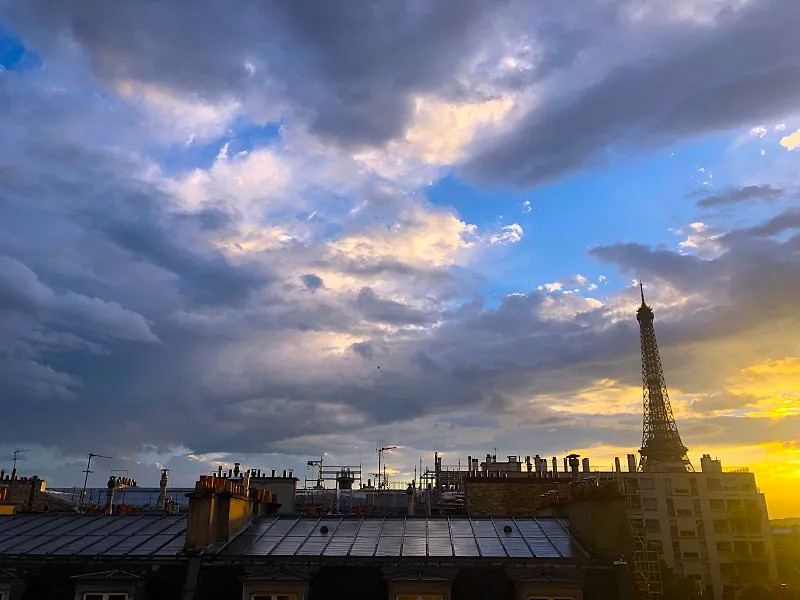Eiffel: (633, 279, 695, 472)
